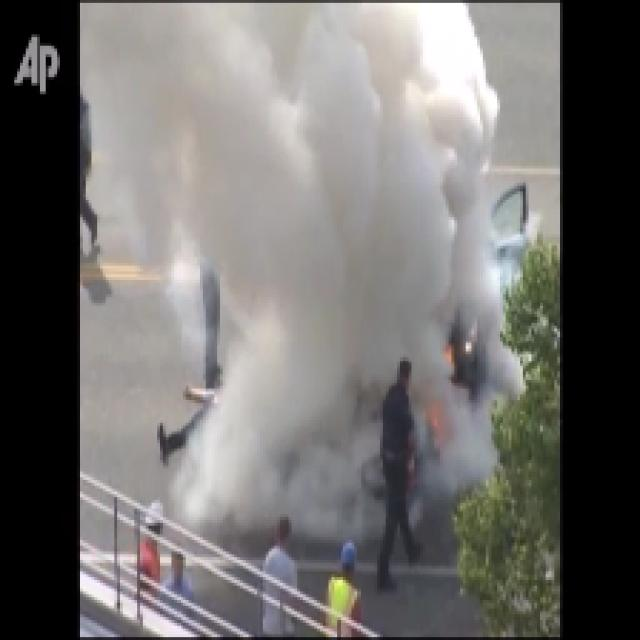smoke: (114, 7, 475, 526)
